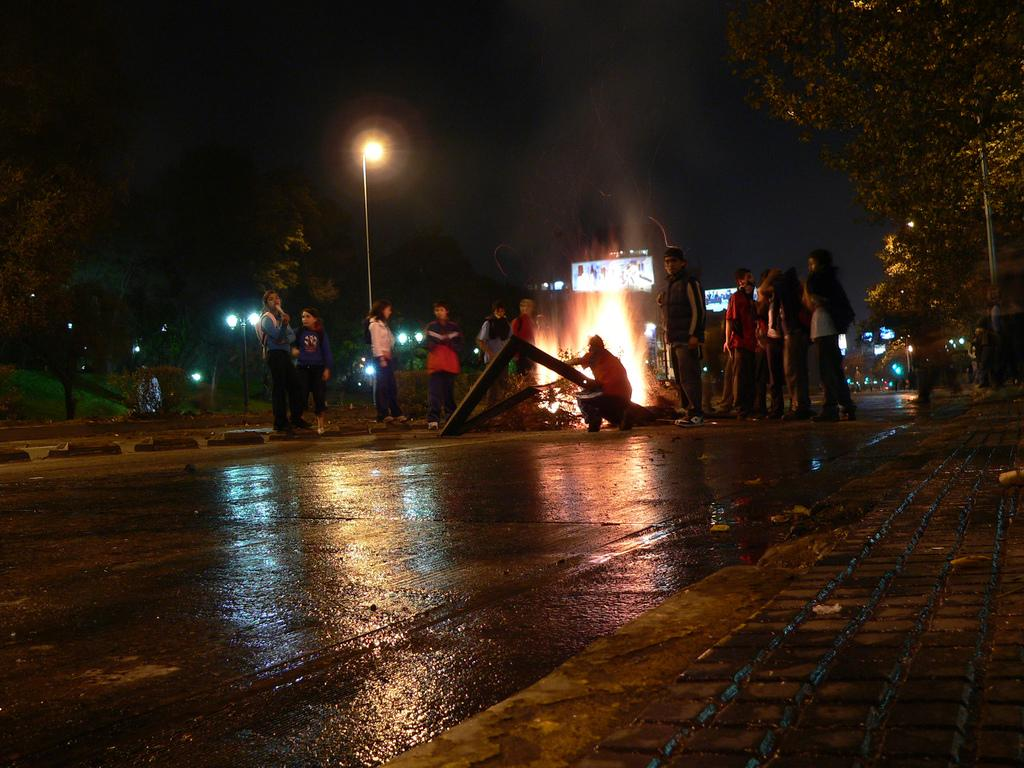fire: (578, 304, 638, 348), (536, 330, 568, 356)
